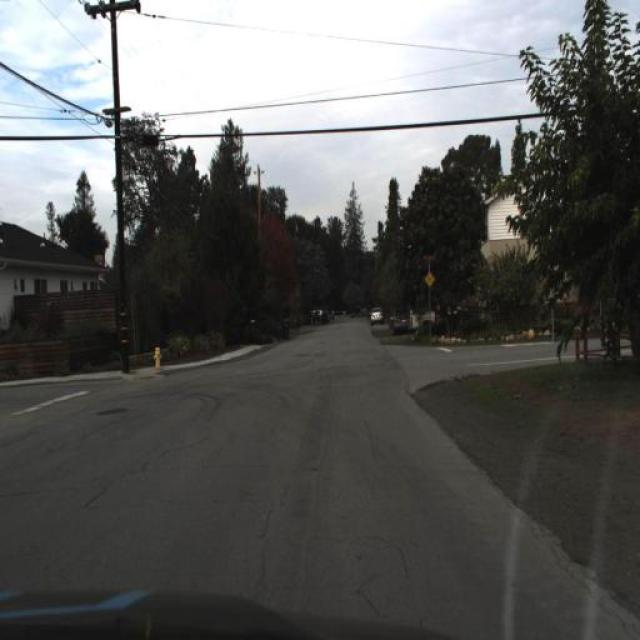car: (385, 302, 410, 343), (366, 302, 384, 330)
